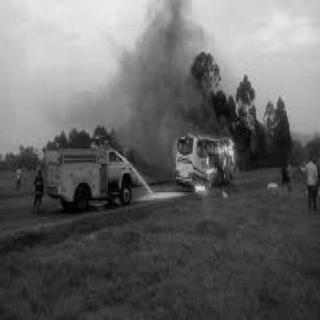Fire: (197, 127, 240, 197)
Smoke: (120, 0, 228, 172)
